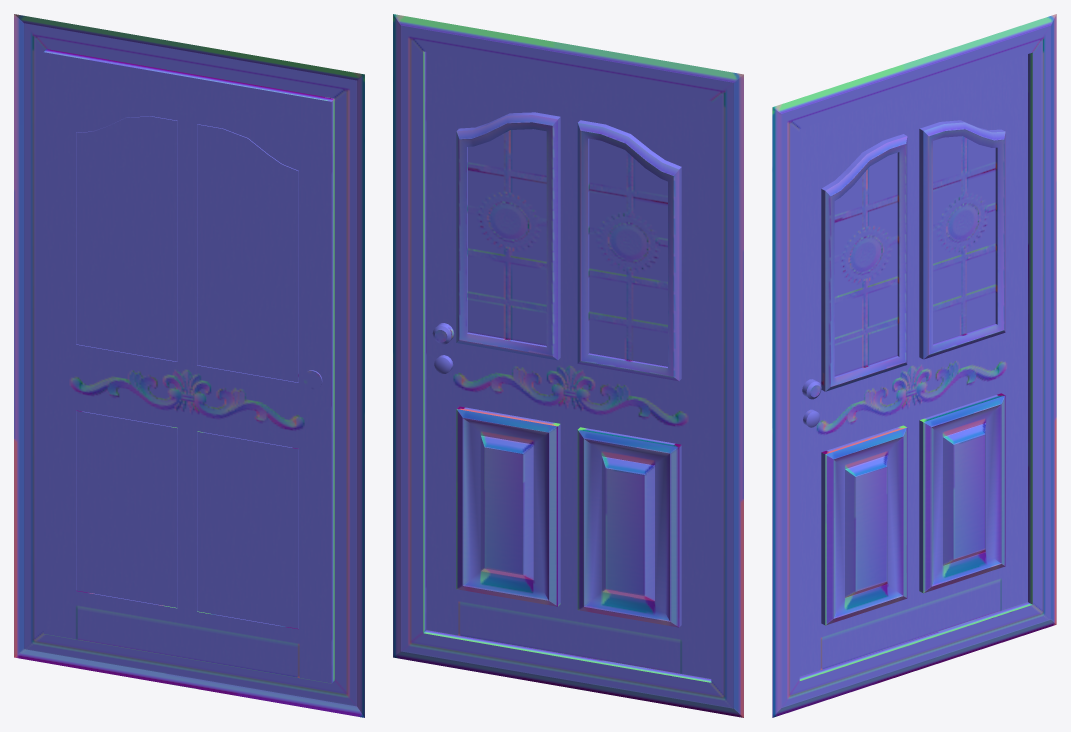
3 views of the same model, side by side, from view 1: azimuth 30°, elevation 25°; view 2: azimuth 210°, elevation 25°; view 3: azimuth 270°, elevation 25° (orthographic). The views are drawn at different scales.
Parts seen in each view (by area): view 1: SM_doorHN; view 2: SM_doorHN; view 3: SM_doorHN.
Boxes of the visible parts, <box> form: SM_doorHN: <box>14,14,364,717</box>; SM_doorHN: <box>393,14,743,717</box>; SM_doorHN: <box>772,14,1056,717</box>.
Bounding box in the file's own units: 98.08 × 300 × 126.
